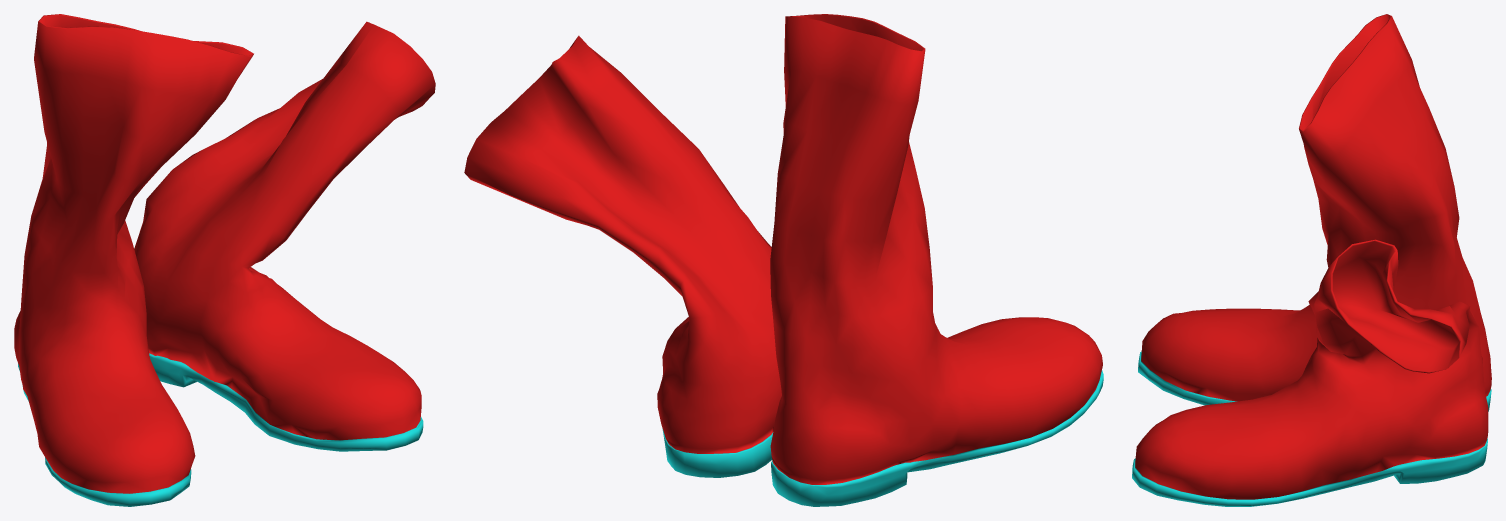
Rendered from kirza.fbx.
The picture shows the model from 3 angles, left to right: view 1: azimuth 30°, elevation 25°; view 2: azimuth 150°, elevation 25°; view 3: azimuth 270°, elevation 25°; orthographic projection. The views are drawn at different scales.
Visible parts, largest first — view 1: Cube.004, Cube.001; view 2: Cube.004, Cube.001; view 3: Cube.001, Cube.004.
Part boxes in pixels (box(x1,y1,x2,y2)): Cube.004: box(14, 14, 253, 506); Cube.001: box(134, 21, 435, 451); Cube.004: box(770, 14, 1103, 506); Cube.001: box(464, 35, 781, 477); Cube.001: box(1132, 239, 1488, 506); Cube.004: box(1138, 14, 1491, 411).
Size of the model in its own units: 44.33 by 37.5 by 32.7.
